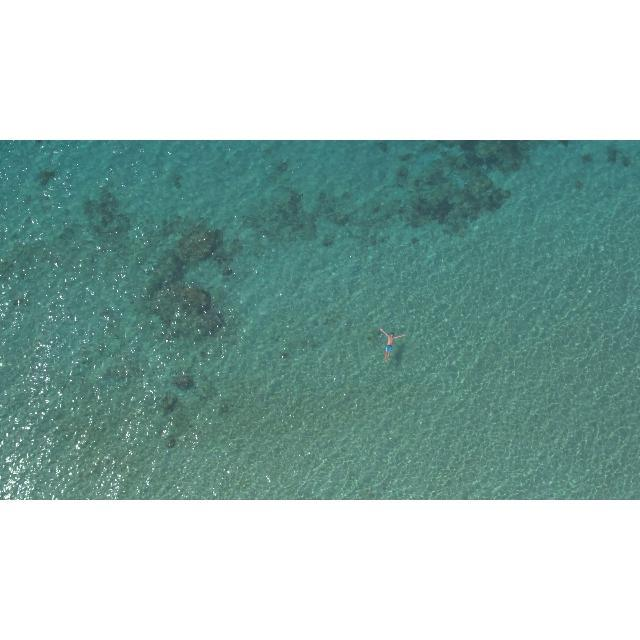human: (381, 330, 407, 363)
